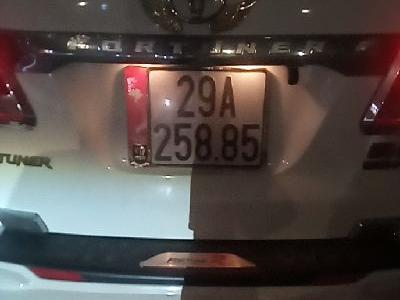number: (122, 67, 266, 167)
